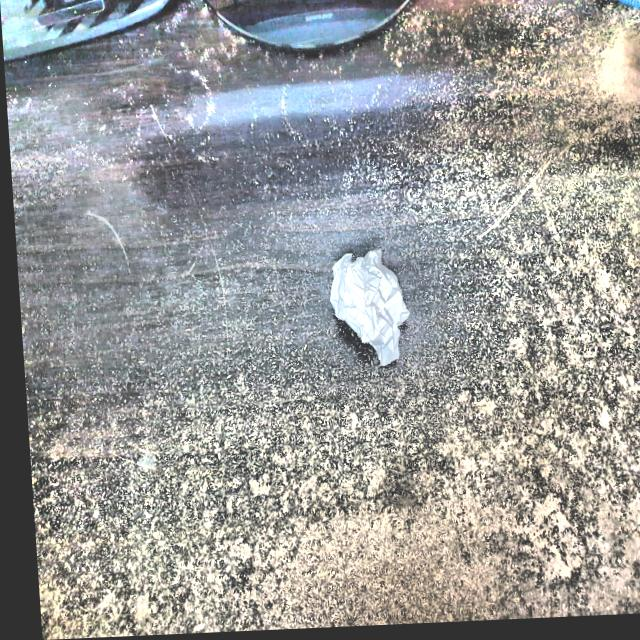Paper: (325, 254, 415, 383)
